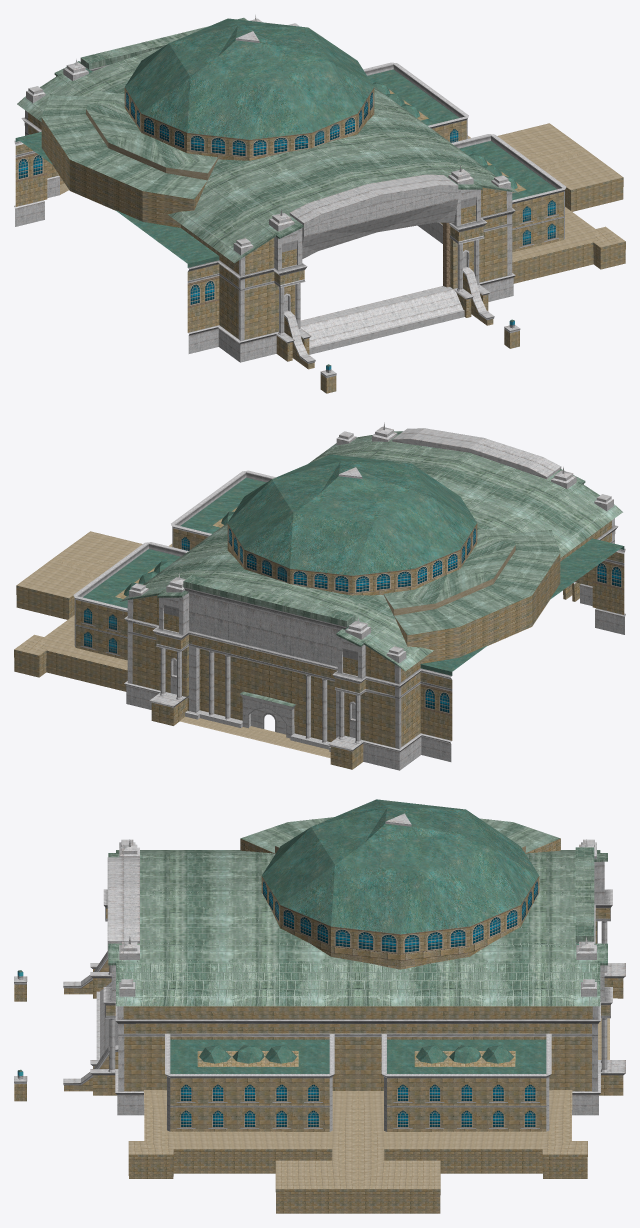
Rendered from thm_nboo_thed_hangar_r0_mesh_l2.fbx.
The picture shows the model from 3 angles, top to bottom: view 1: azimuth 30°, elevation 25°; view 2: azimuth 150°, elevation 25°; view 3: azimuth 270°, elevation 25°; orthographic projection. The views are drawn at different scales.
Visible parts, largest first — view 1: mesh_node; view 2: mesh_node; view 3: mesh_node.
Boxes of the visible parts, x1=… form: mesh_node: x1=14, y1=15, x2=625, y2=393; mesh_node: x1=14, y1=422, x2=625, y2=770; mesh_node: x1=14, y1=799, x2=625, y2=1213.
Size of the model in its own units: 201 by 79.34 by 192.
